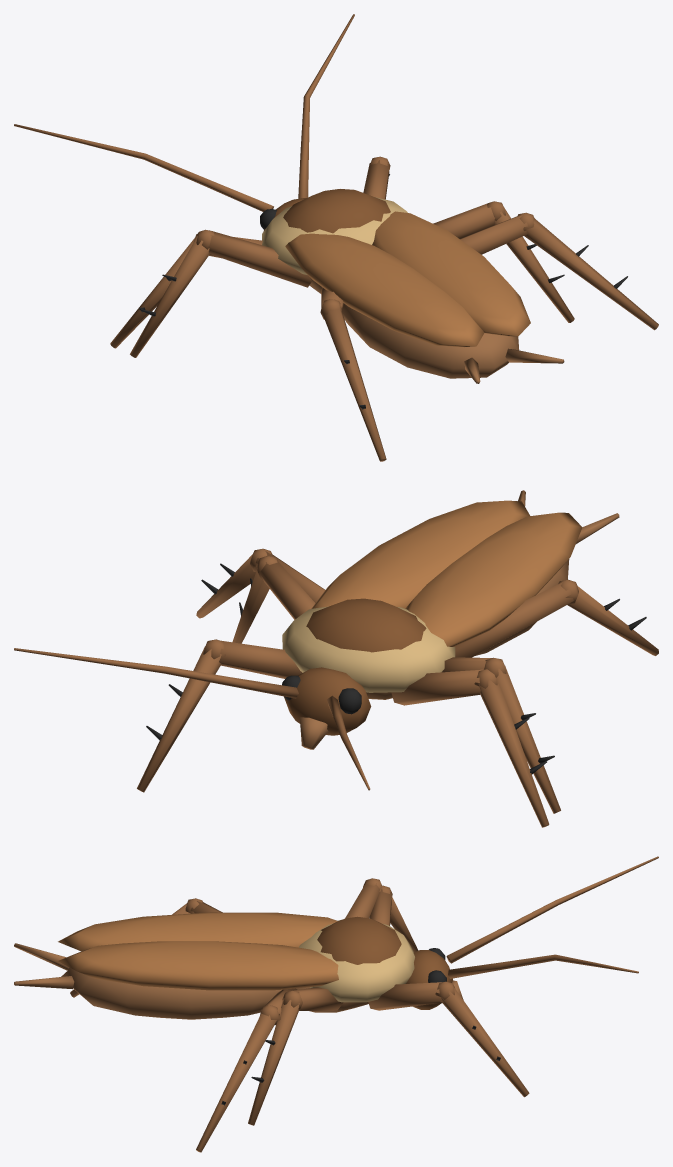
Rendered from alien_runner.glb.
3 views of the same model, one above another, from view 1: azimuth 30°, elevation 25°; view 2: azimuth 150°, elevation 25°; view 3: azimuth 270°, elevation 25° (orthographic). The views are drawn at different scales.
Visible parts, largest first — view 1: alien_runner; view 2: alien_runner; view 3: alien_runner.
Part boxes in pixels (x1,y1,x2,y2): alien_runner: (14,14,658,461); alien_runner: (14,490,658,827); alien_runner: (14,856,658,1152).
Bounding box in the file's own units: 2.53 × 0.9 × 3.5.
